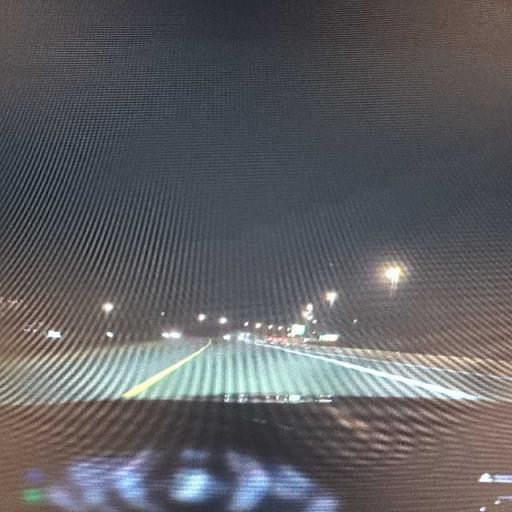lane: (0, 339, 511, 403), (139, 342, 479, 399), (0, 338, 207, 404)
